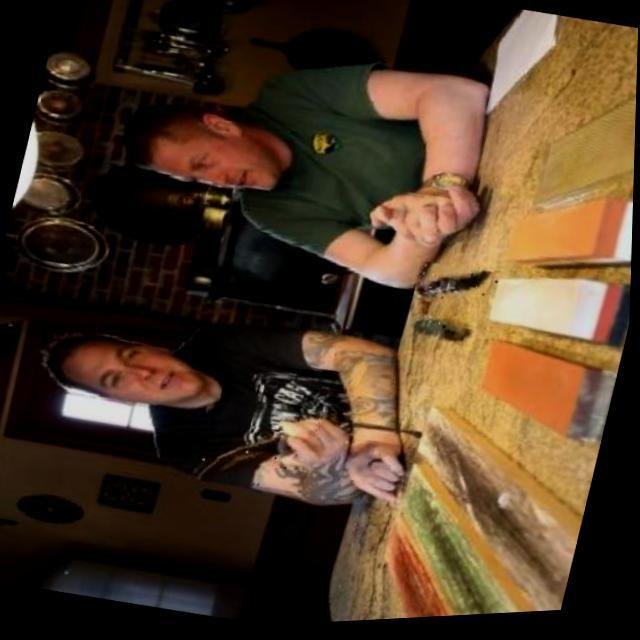knife: (193, 391, 358, 509), (415, 262, 501, 314), (409, 316, 469, 350)
